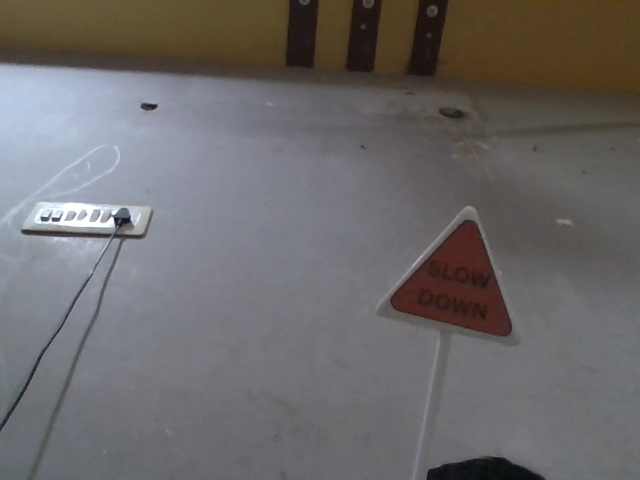slowdown: (364, 207, 526, 349)
